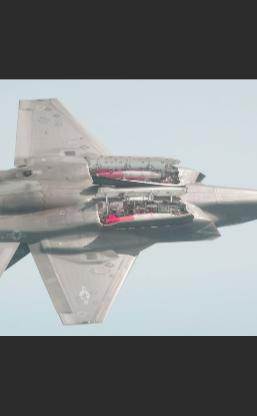F22: (0, 97, 256, 327)
